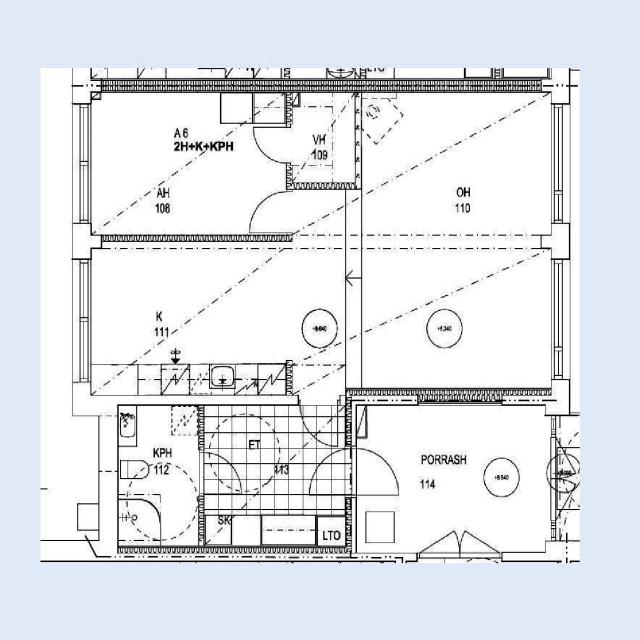door: (345, 448, 399, 494), (303, 448, 356, 494), (300, 394, 338, 447), (249, 191, 293, 232), (198, 452, 242, 493), (255, 127, 292, 162)
